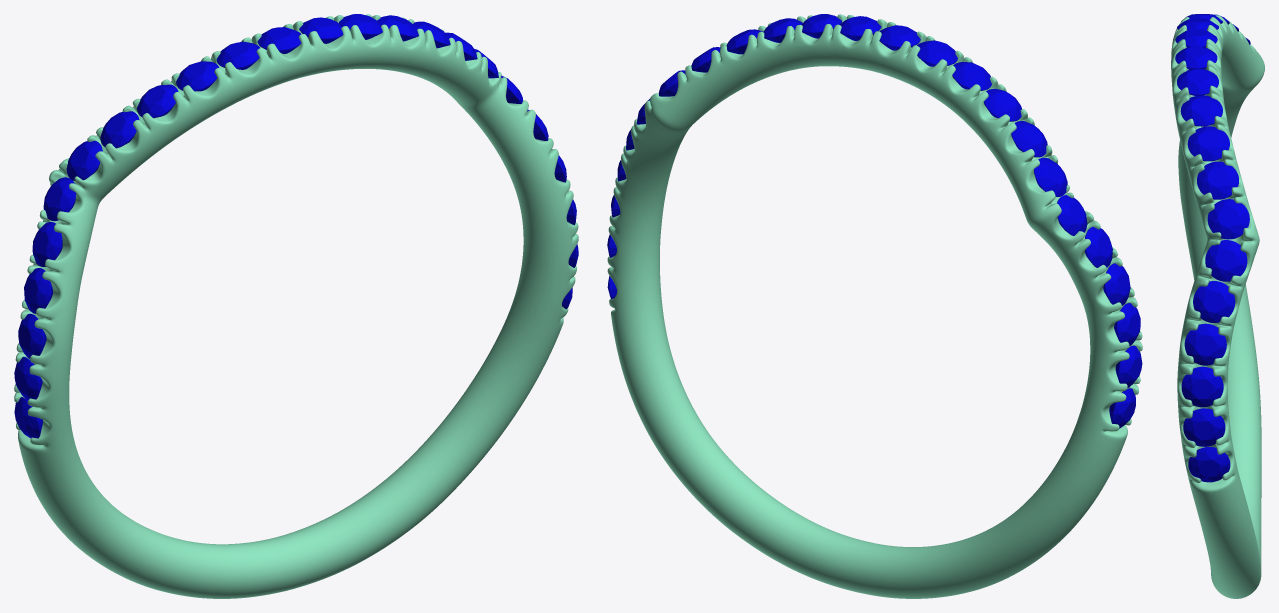
The picture shows the model from 3 angles, left to right: view 1: azimuth 30°, elevation 25°; view 2: azimuth 150°, elevation 25°; view 3: azimuth 270°, elevation 25°; orthographic projection. The views are drawn at different scales.
Visible parts, largest first — view 1: Metal03, Diamond_Band.018, Diamond_Band.017, Diamond_Band.016, Diamond_Band.012, Diamond_Band.019, Diamond_Band.015, Diamond_Band.020, Diamond_Band.014, Diamond_Band.021, Diamond_Band.022, Diamond_Band.013 (+1 smaller); view 2: Metal03, Diamond_Band.018, Diamond_Band.012, Diamond_Band.017, Diamond_Band.019, Diamond_Band.016, Diamond_Band.020, Diamond_Band.015, Diamond_Band.014, Diamond_Band.021, Diamond_Band.022, Diamond_Band.013; view 3: Metal03, Diamond_Band.007, Diamond_Band.008, Diamond_Band.006, Diamond_Band.005, Diamond_Band.009, Diamond_Band.010, Diamond_Band.004, Diamond_Band.011, Diamond_Band.003, Diamond_Band.002, Diamond_Band.001 (+4 smaller).
Boxes of the visible parts, x1,y1,x2,y2 form: Metal03: (14, 14, 578, 598); Diamond_Band.018: (66, 140, 102, 180); Diamond_Band.017: (100, 111, 139, 148); Diamond_Band.016: (137, 84, 178, 118); Diamond_Band.012: (43, 177, 76, 221); Diamond_Band.019: (32, 222, 62, 266); Diamond_Band.015: (176, 61, 219, 91); Diamond_Band.020: (24, 268, 52, 313); Diamond_Band.014: (216, 41, 259, 69); Diamond_Band.021: (18, 313, 46, 358); Diamond_Band.022: (14, 356, 42, 400); Diamond_Band.013: (257, 27, 301, 53); Metal03: (607, 14, 1142, 598); Diamond_Band.018: (1034, 157, 1067, 196); Diamond_Band.012: (1057, 195, 1087, 235); Diamond_Band.017: (1011, 121, 1047, 157); Diamond_Band.019: (1085, 227, 1112, 267); Diamond_Band.016: (984, 88, 1021, 121); Diamond_Band.020: (1103, 263, 1130, 305); Diamond_Band.015: (952, 62, 991, 90); Diamond_Band.014: (917, 40, 957, 66); Diamond_Band.021: (1114, 303, 1140, 345); Diamond_Band.022: (1115, 345, 1142, 387); Diamond_Band.013: (879, 25, 920, 50); Metal03: (1171, 15, 1264, 598); Diamond_Band.007: (1193, 281, 1235, 322); Diamond_Band.008: (1184, 323, 1226, 365); Diamond_Band.006: (1205, 240, 1247, 281); Diamond_Band.005: (1207, 199, 1249, 239); Diamond_Band.009: (1181, 366, 1223, 407); Diamond_Band.010: (1183, 408, 1225, 446); Diamond_Band.004: (1197, 161, 1238, 199); Diamond_Band.011: (1188, 447, 1230, 482); Diamond_Band.003: (1187, 126, 1229, 161); Diamond_Band.002: (1180, 95, 1222, 126); Diamond_Band.001: (1177, 68, 1218, 95).
Bounding box in the file's own units: 20.74 × 20.8 × 3.34.
